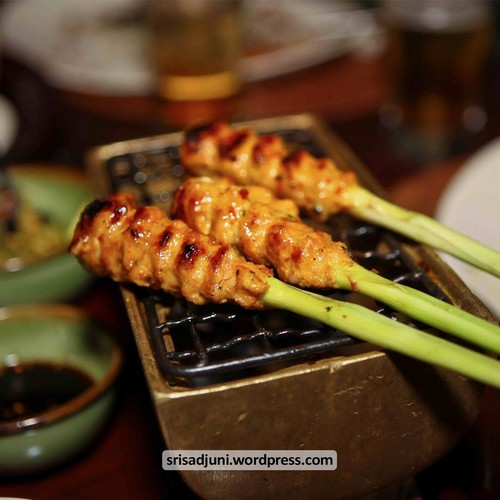sate languan: (59, 190, 345, 319)
